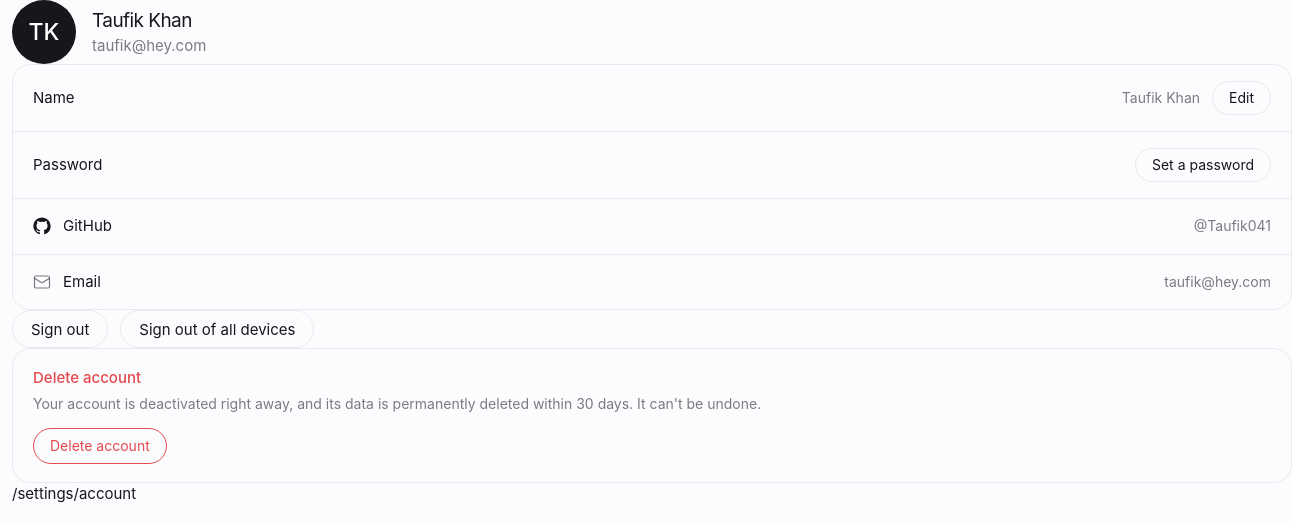
Test case: Settings → Account: the password of an account made with GitHub › a failure says why, in plain words
The image size is (1292, 524).
Click the button "Set a password" at (1203, 165), box [1135,148,1271,182]
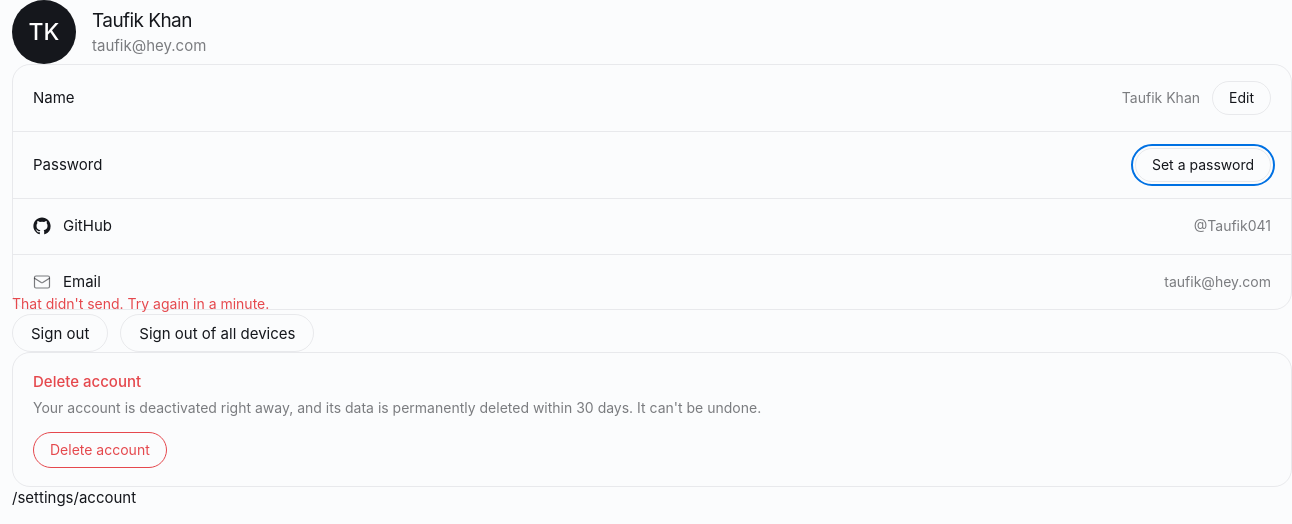
Expected: the message reads "That didn't send. Try again in a minute.", [12,295,269,312]
